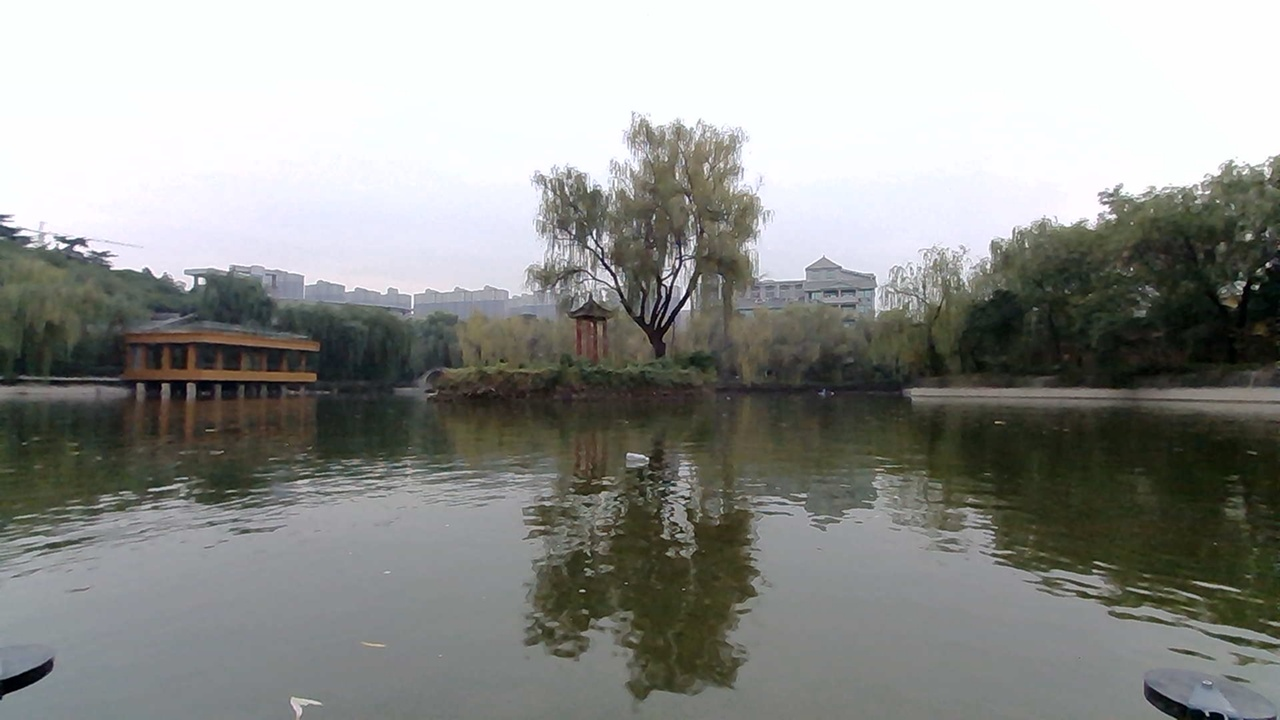bottle: (604, 437, 668, 470)
